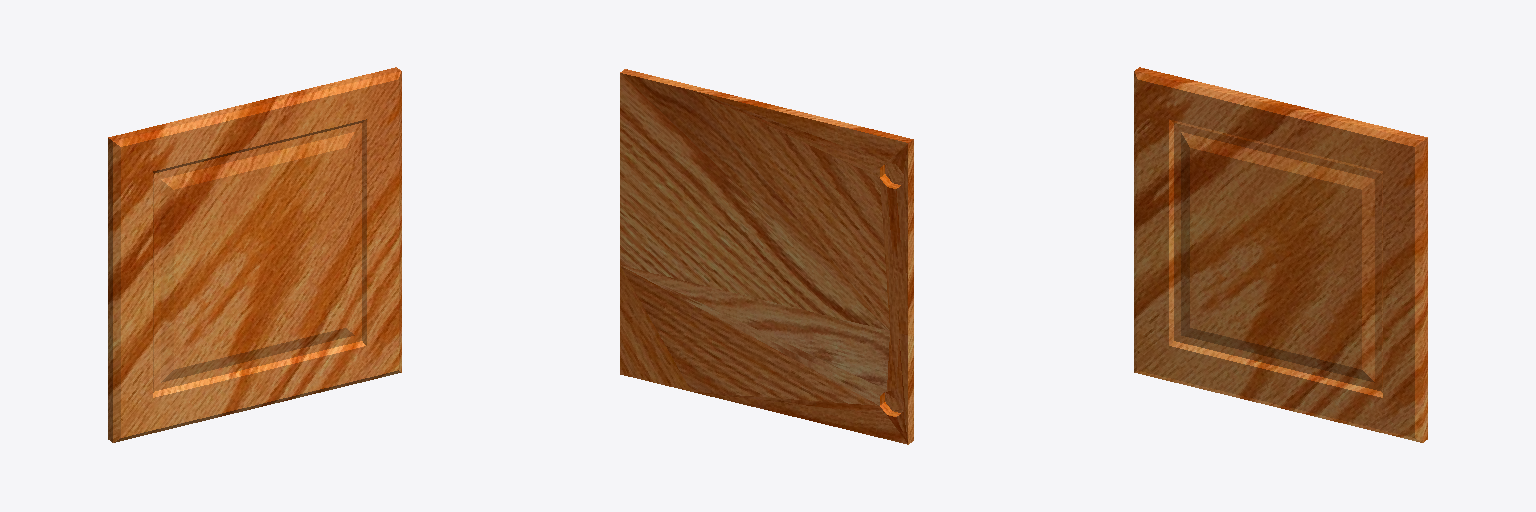
3 renders of one model, left to right at view 1: azimuth 30°, elevation 25°; view 2: azimuth 150°, elevation 25°; view 3: azimuth 330°, elevation 25°, orthographic.
Visible parts, largest first — view 1: model_model.023; view 2: model_model.023; view 3: model_model.023.
Part boxes in pixels (bbox=[...]): model_model.023: bbox=[108, 67, 401, 442]; model_model.023: bbox=[620, 69, 913, 444]; model_model.023: bbox=[1134, 67, 1427, 442].
Size of the model in its own units: 0.397 by 0.397 by 0.018.
Materials: 1 (1 with a texture image).